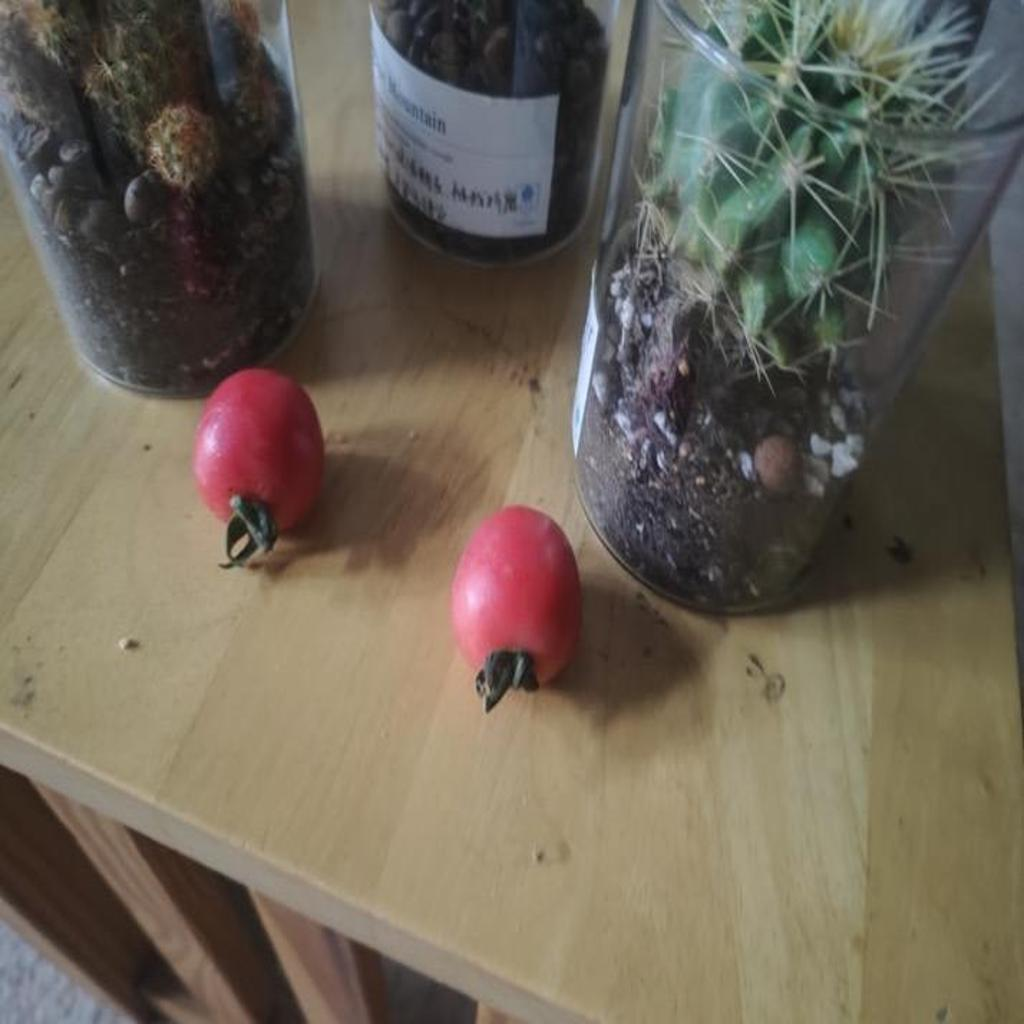tomato: (449, 513, 587, 675), (195, 373, 318, 539)
